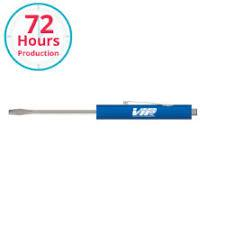screwdriver: (7, 100, 197, 119)
